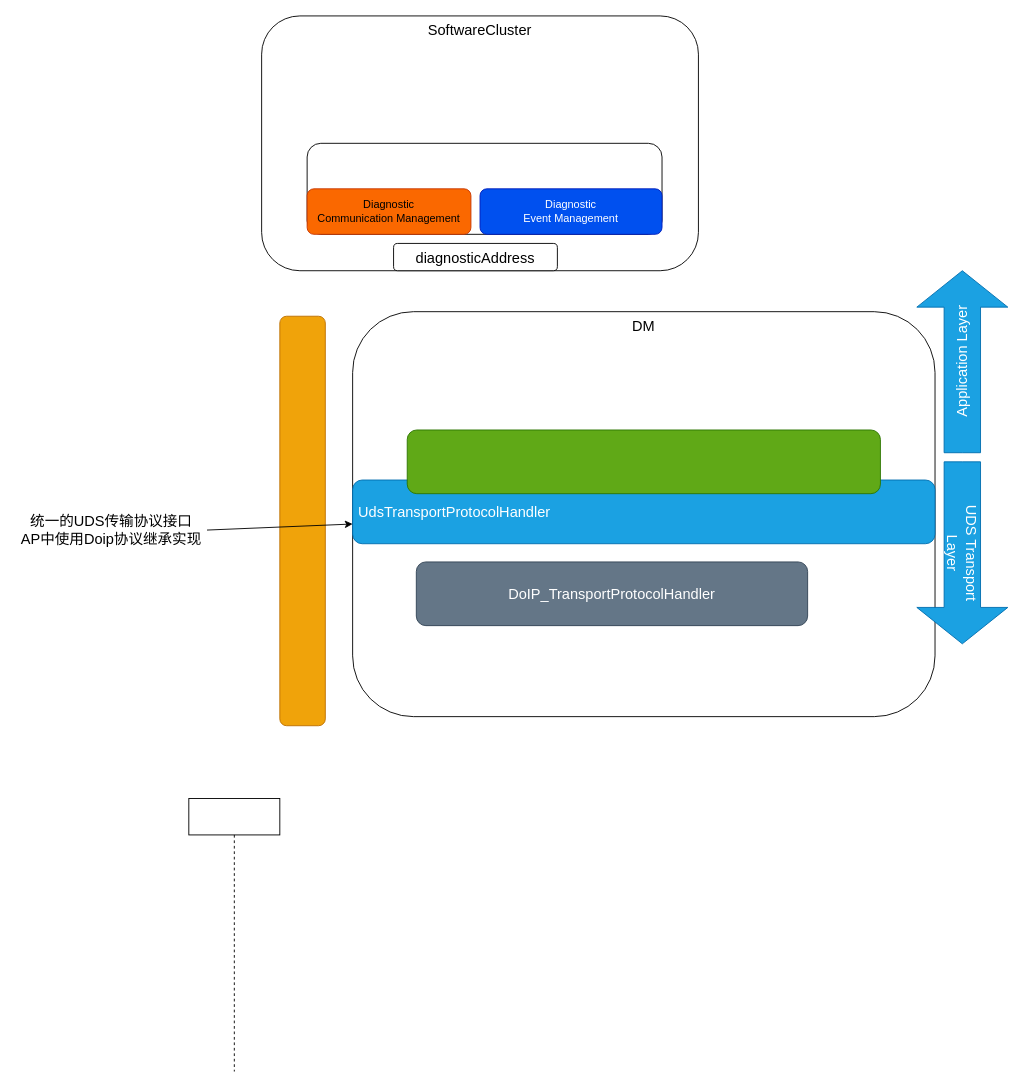
Some shapes in this 1024 by 1087 pixel diagram are drawn without their labels. The box of each missing label's shape, as (x1, y1, x2, y2) in pixels:
:Object: (188, 798, 280, 1072)
DiagServer: (306, 142, 662, 234)
DM 单独一个进程: (279, 315, 325, 726)
Transport Protocol Manager: (406, 429, 880, 494)
